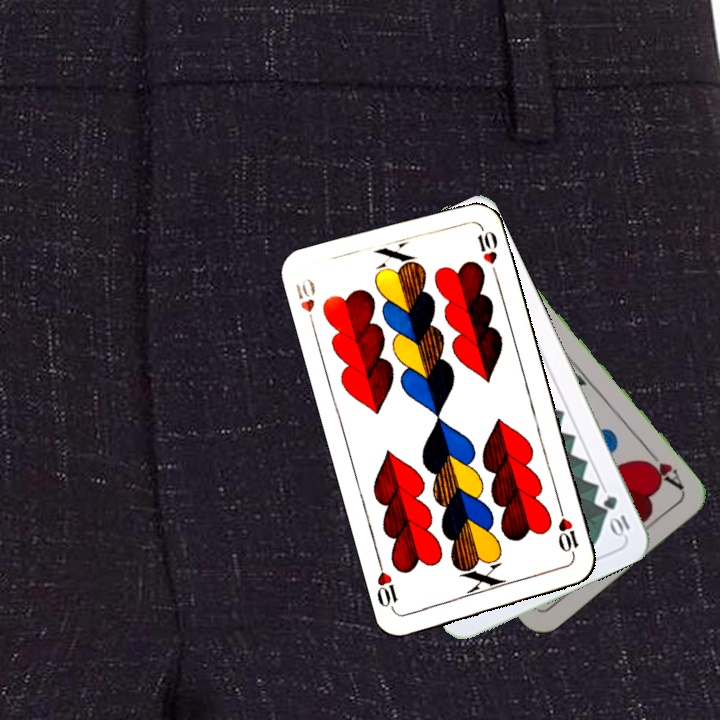G10: (599, 491, 633, 541)
H10: (554, 503, 582, 562), (292, 274, 318, 332)
HA: (638, 445, 687, 493)
